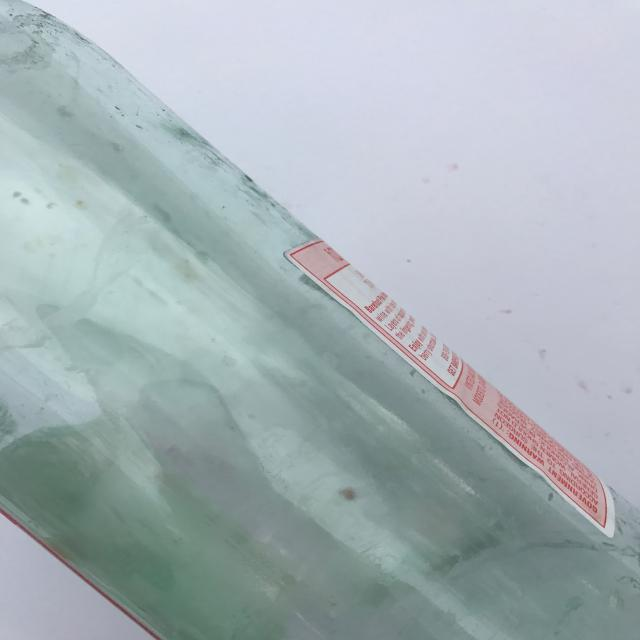glass: (2, 1, 636, 639)
